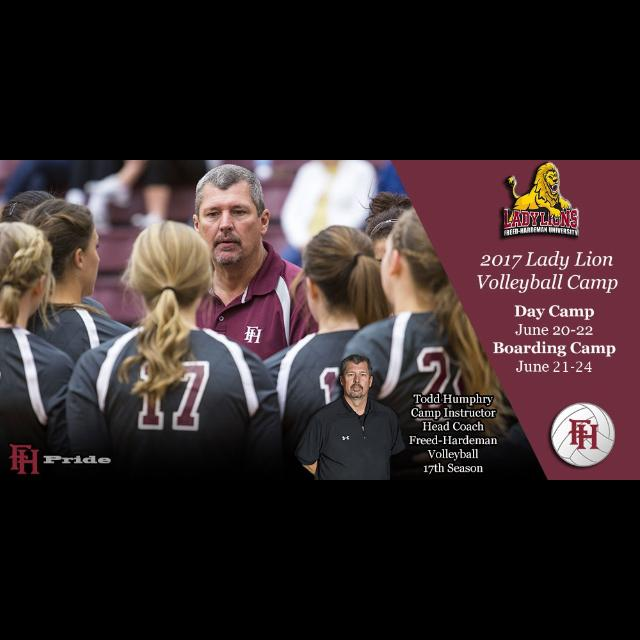head: (378, 206, 478, 306), (19, 198, 102, 298), (192, 164, 272, 266), (304, 224, 378, 324), (135, 222, 211, 314), (0, 222, 52, 314), (338, 354, 374, 402), (322, 160, 348, 172)
person: (232, 160, 382, 342)
